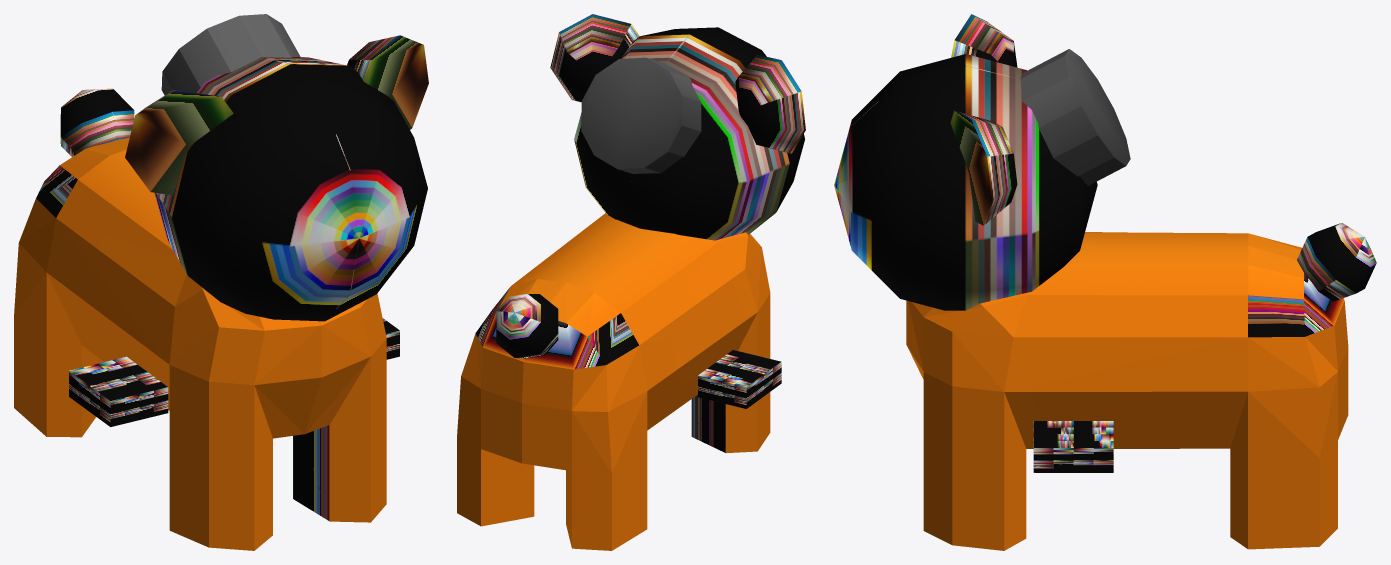
The model's file is VE_AnimalBike_BearCollider.FBX.
The picture shows the model from 3 angles, left to right: view 1: azimuth 30°, elevation 25°; view 2: azimuth 150°, elevation 25°; view 3: azimuth 270°, elevation 25°; orthographic projection. The views are drawn at different scales.
Visible parts, largest first — view 1: BT_ VehicleBearCollider; view 2: BT_ VehicleBearCollider; view 3: BT_ VehicleBearCollider.
Part boxes in pixels (<box>): BT_ VehicleBearCollider: <box>14,14,428,550</box>; BT_ VehicleBearCollider: <box>457,14,805,550</box>; BT_ VehicleBearCollider: <box>834,14,1376,550</box>.
Bounding box in the file's own units: 62.09 × 91.24 × 100.
